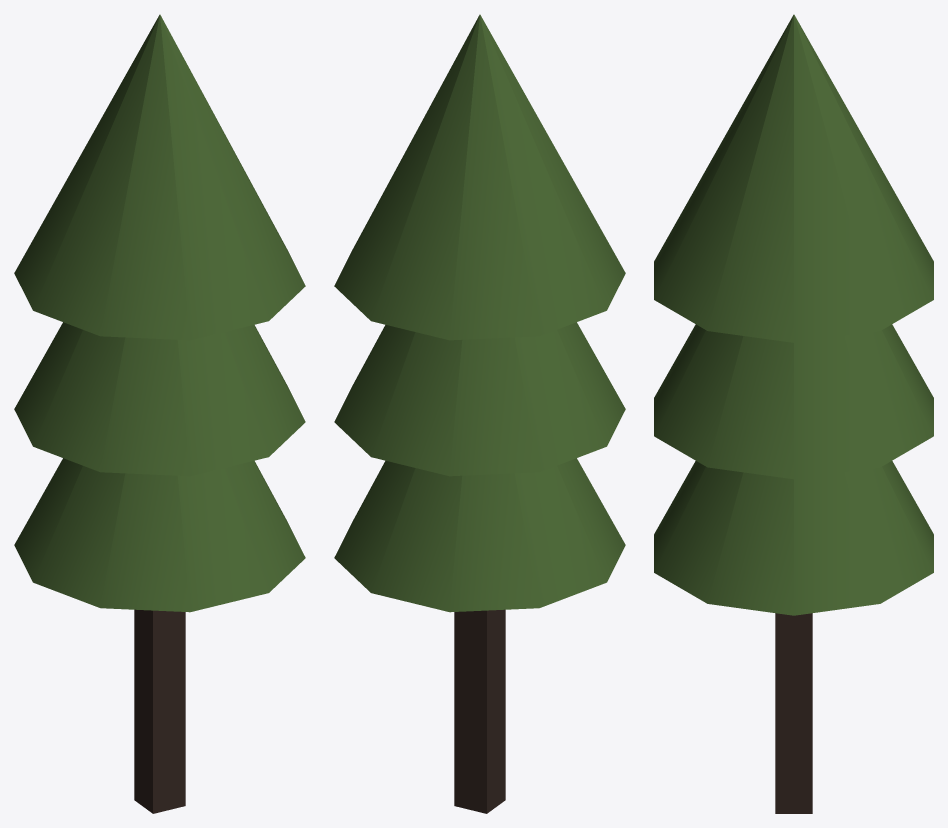
Rendered from tree_01.fbx.
3 views of the same model, side by side, from view 1: azimuth 30°, elevation 25°; view 2: azimuth 150°, elevation 25°; view 3: azimuth 270°, elevation 25° (orthographic).
Visible parts, largest first — view 1: Leaves, Trunk; view 2: Leaves, Trunk; view 3: Leaves, Trunk.
Part boxes in pixels (bbox=[...]): Leaves: bbox=[14, 14, 305, 612]; Trunk: bbox=[134, 609, 185, 813]; Leaves: bbox=[334, 14, 625, 612]; Trunk: bbox=[454, 609, 505, 813]; Leaves: bbox=[654, 14, 933, 615]; Trunk: bbox=[775, 613, 812, 813].
Bounding box in the file's own units: 78.2 × 232 × 74.37.
